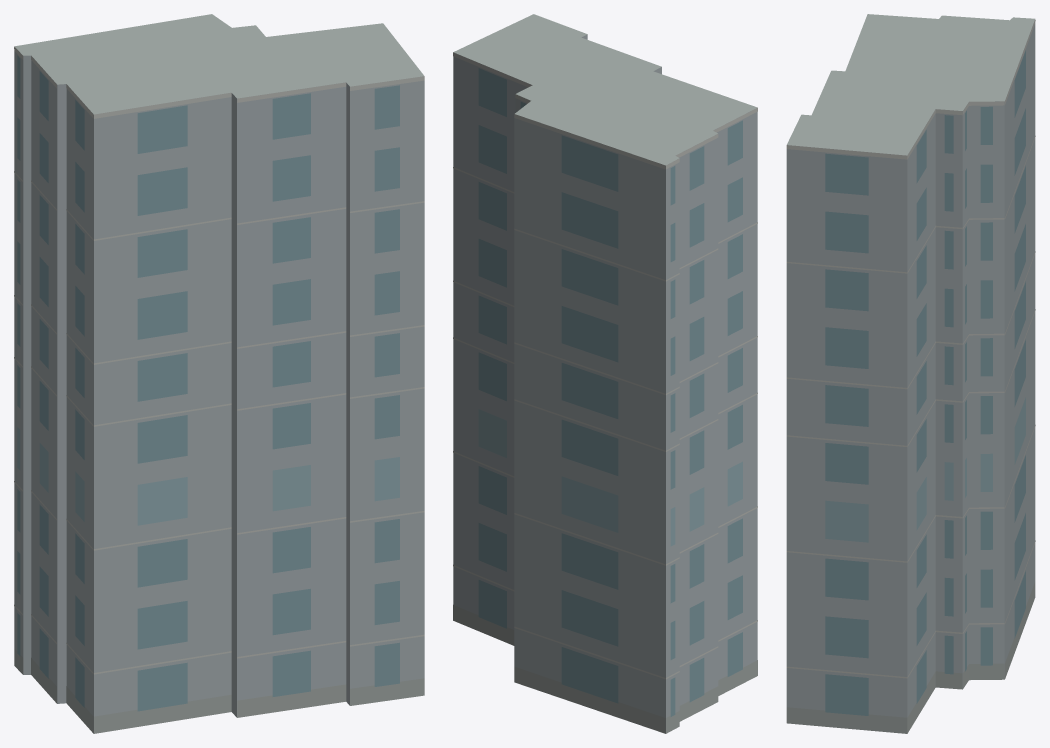
Rendered from survey-upis-32994584.glb.
3 renders of one model, left to right at view 1: azimuth 30°, elevation 25°; view 2: azimuth 150°, elevation 25°; view 3: azimuth 270°, elevation 25°, orthographic. The views are drawn at different scales.
Parts seen in each view (by area): view 1: survey-upis-32994584.tmp; view 2: survey-upis-32994584.tmp; view 3: survey-upis-32994584.tmp.
Part boxes in pixels (bbox=[...]): survey-upis-32994584.tmp: bbox=[14, 14, 424, 733]; survey-upis-32994584.tmp: bbox=[453, 14, 757, 733]; survey-upis-32994584.tmp: bbox=[786, 14, 1035, 733].
Bounding box in the file's own units: 18.08 × 34.4 × 13.43.
